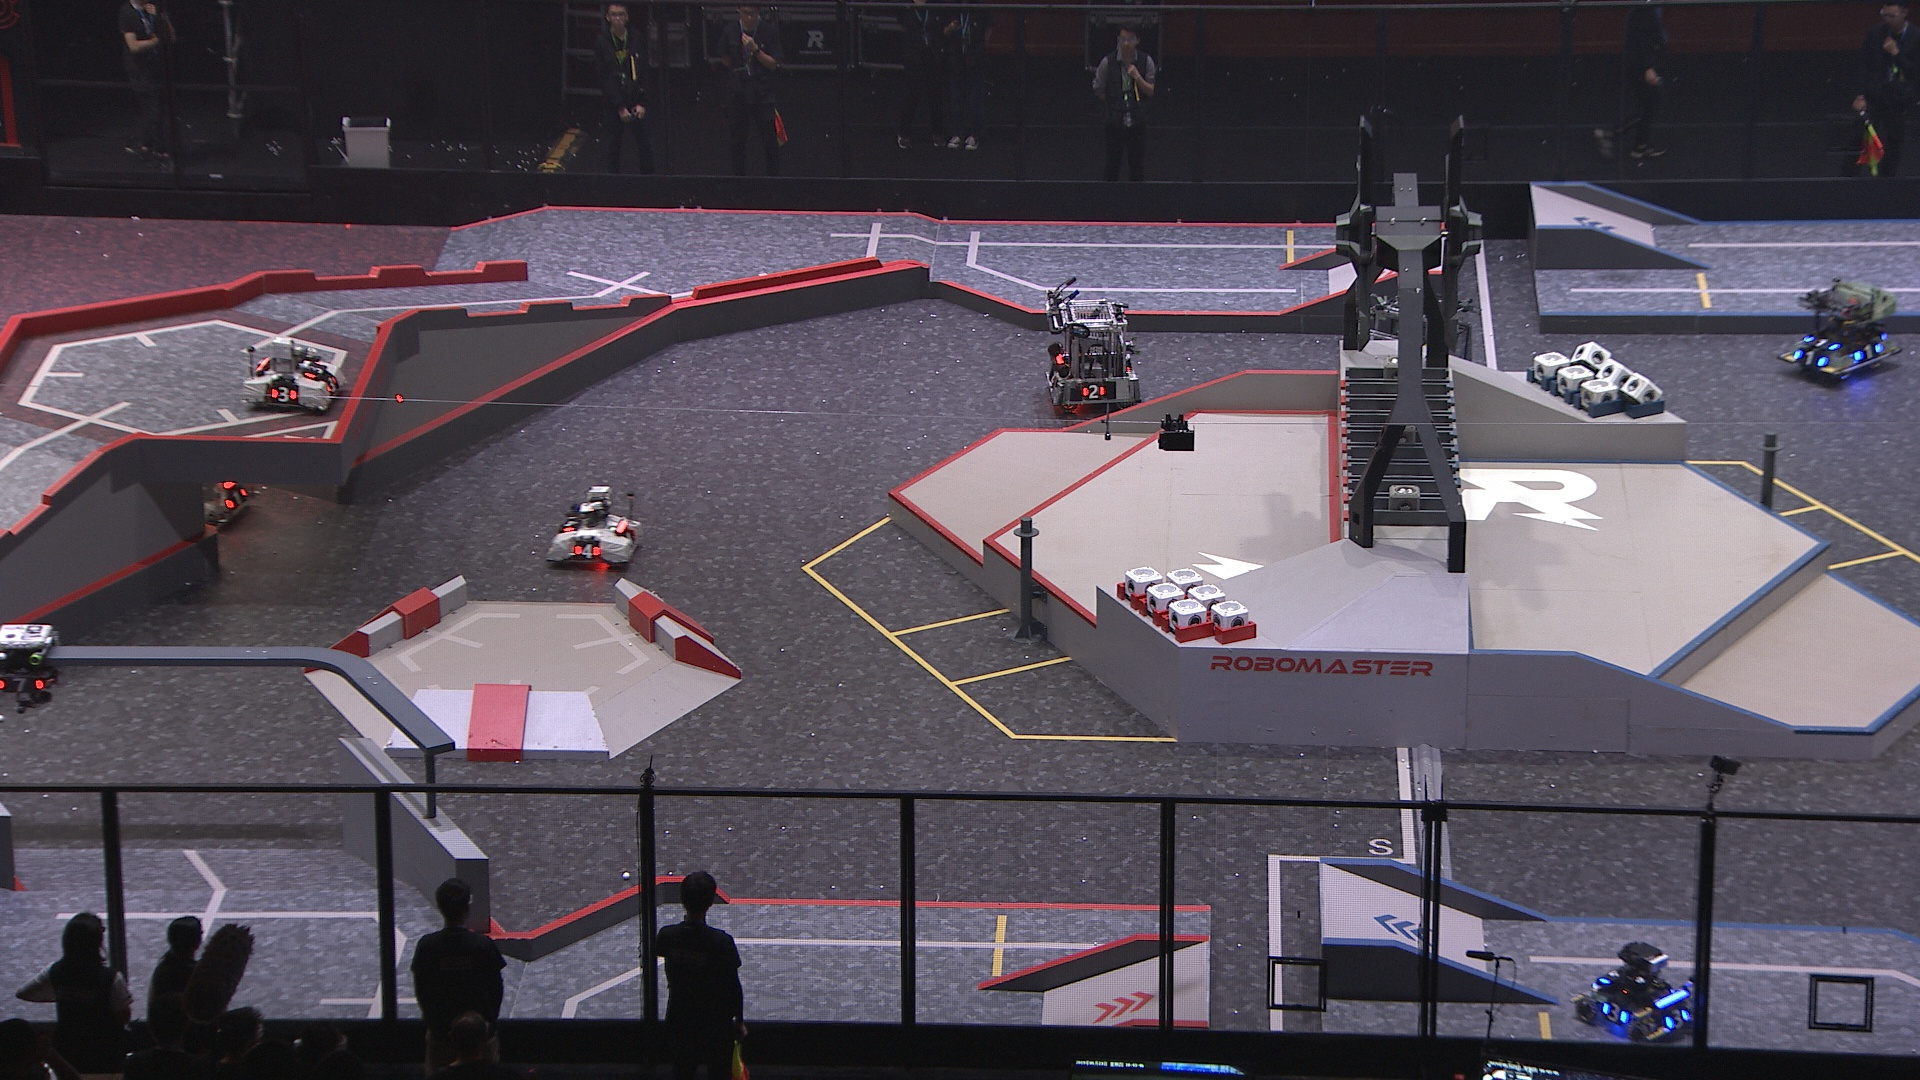armor: (1600, 996, 1633, 1026), (1664, 1004, 1692, 1035), (1792, 347, 1828, 371), (1803, 334, 1842, 353), (223, 485, 253, 509), (1851, 342, 1884, 363), (1077, 380, 1106, 404), (1598, 964, 1625, 989), (571, 541, 604, 560), (268, 384, 297, 406), (302, 357, 328, 381), (319, 372, 340, 396), (560, 512, 582, 534)
car: (1571, 939, 1704, 1044), (1778, 277, 1903, 386), (1361, 291, 1472, 405), (144, 422, 257, 533), (1044, 294, 1143, 419), (546, 479, 650, 575), (235, 338, 349, 414)
